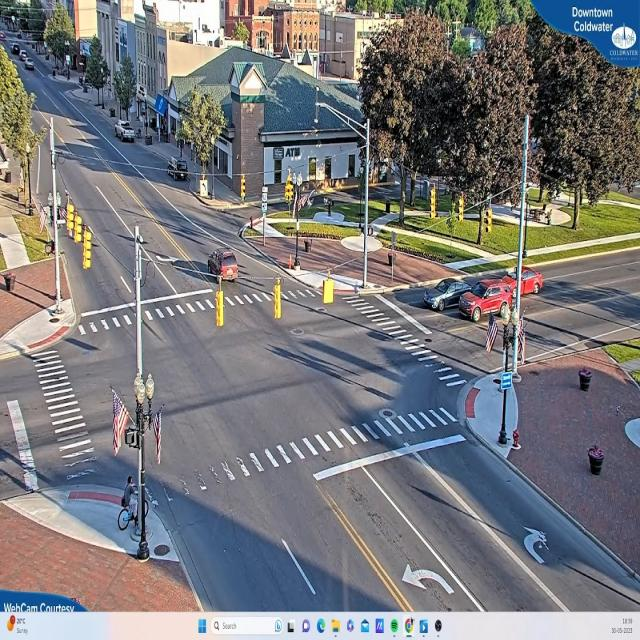car: (456, 276, 511, 327), (422, 278, 464, 315), (508, 264, 548, 298), (209, 250, 241, 286), (165, 159, 189, 180), (116, 123, 136, 143)
